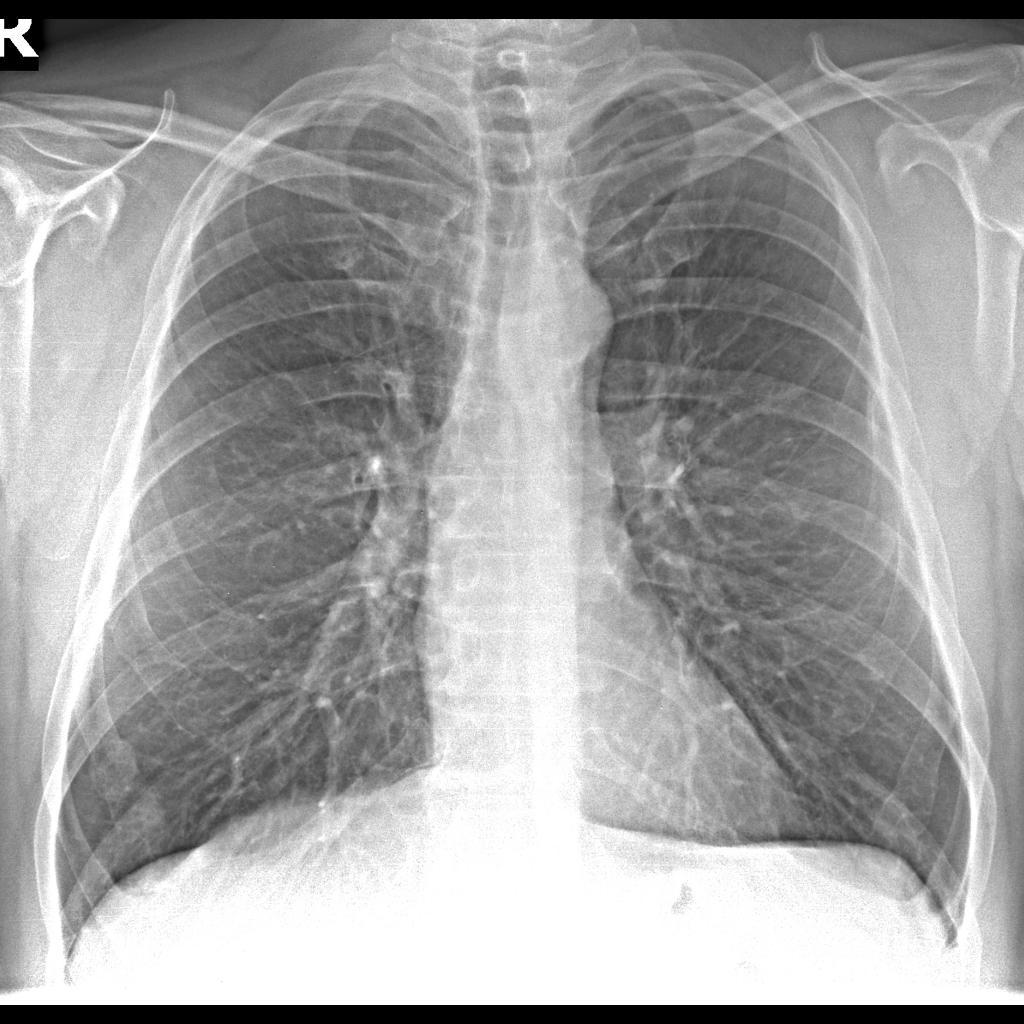Nodule: (80, 720, 148, 805)
